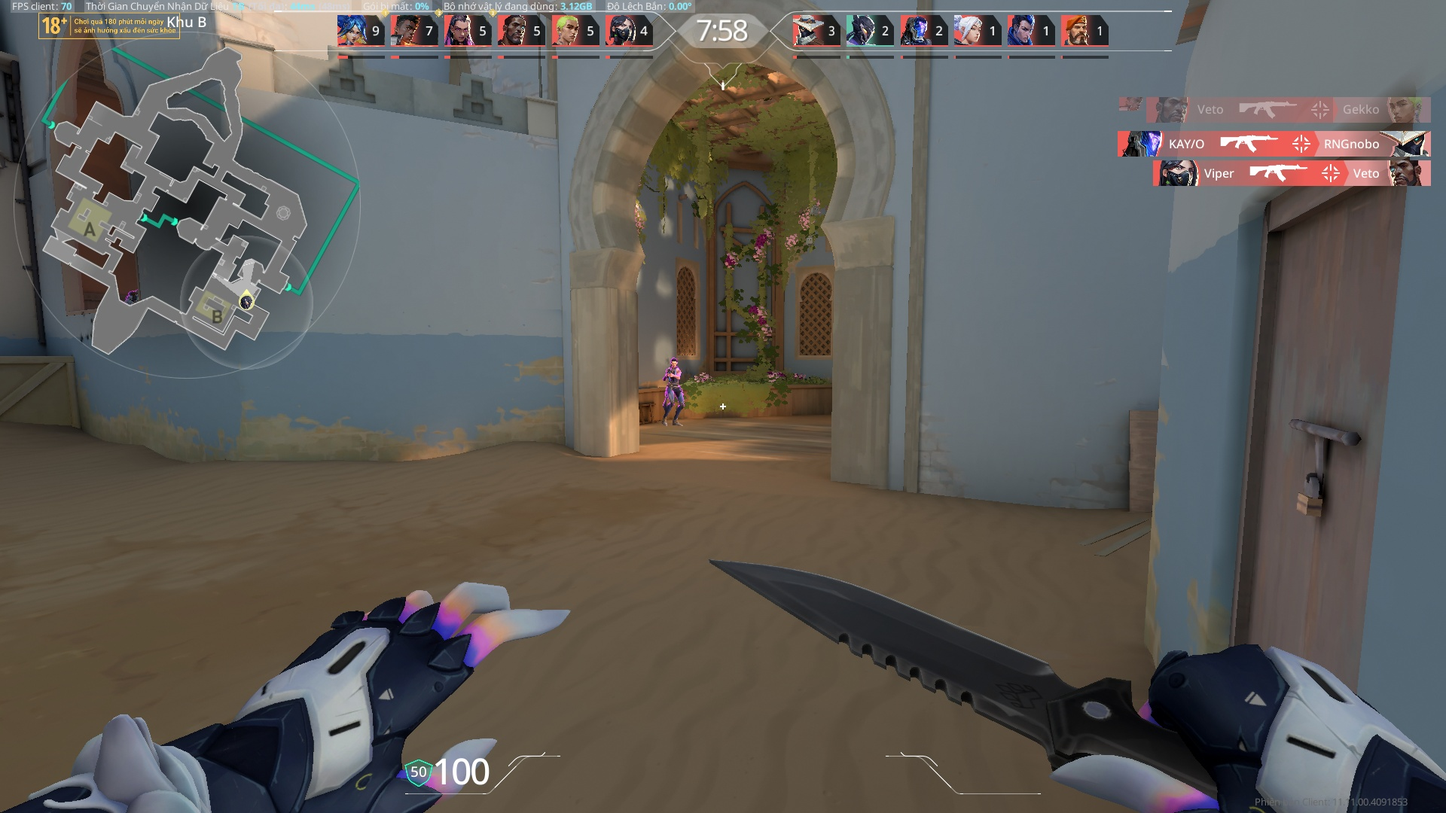body: (665, 366, 682, 388)
head: (670, 352, 680, 370)
